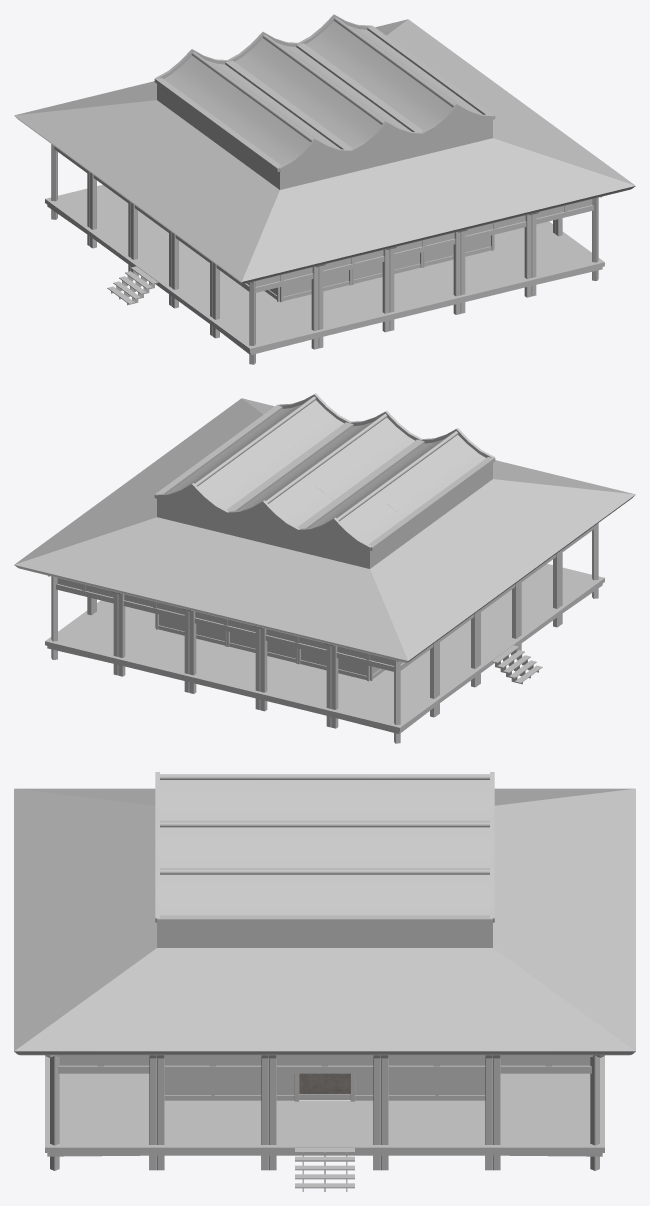
File: Japanese Buildings 2.fbx
3 views of the same model, one above another, from view 1: azimuth 30°, elevation 25°; view 2: azimuth 150°, elevation 25°; view 3: azimuth 270°, elevation 25° (orthographic). The views are drawn at different scales.
Visible parts, largest first — view 1: Japanese_Buildings_2; view 2: Japanese_Buildings_2; view 3: Japanese_Buildings_2.
Boxes of the visible parts, x1,y1,x2,y2 form: Japanese_Buildings_2: [14, 14, 635, 364]; Japanese_Buildings_2: [14, 393, 635, 743]; Japanese_Buildings_2: [14, 772, 635, 1191].
Bounding box in the file's own units: 1164 × 463 × 1111.
